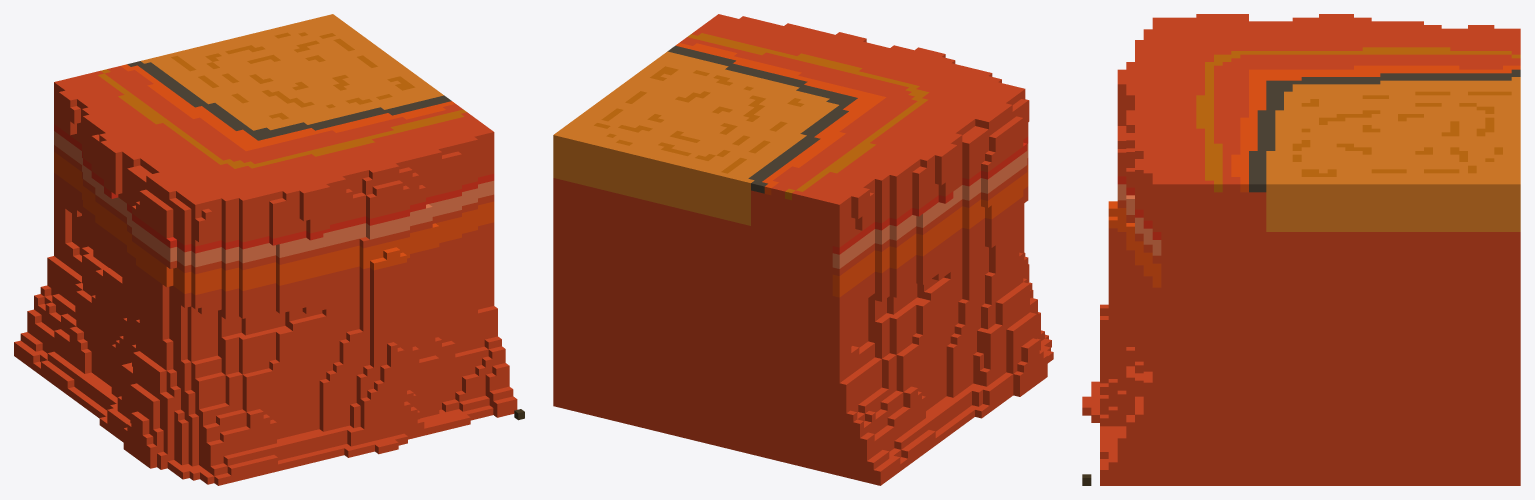
The model's file is western3.obj.
3 views of the same model, side by side, from view 1: azimuth 30°, elevation 25°; view 2: azimuth 150°, elevation 25°; view 3: azimuth 270°, elevation 25° (orthographic). The views are drawn at different scales.
Size of the model in its own units: 5 by 3.8 by 5.
1 material, 1 textured.
